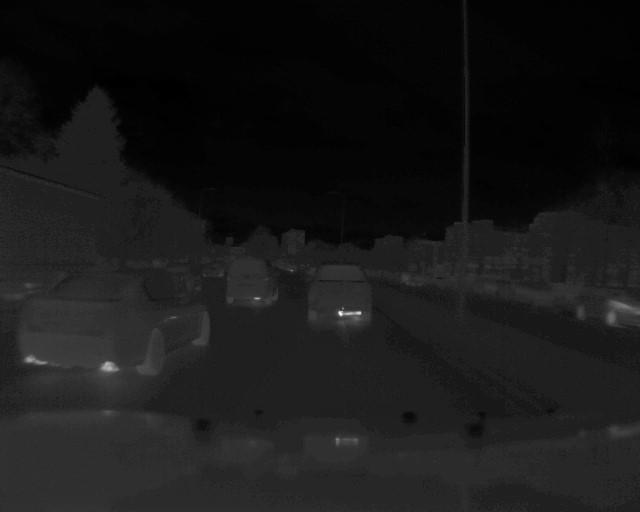car: (20, 265, 214, 378), (302, 263, 376, 327), (221, 255, 279, 307)
